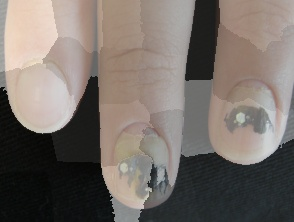SJS-TEN: (104, 101, 188, 215), (207, 64, 294, 173)
